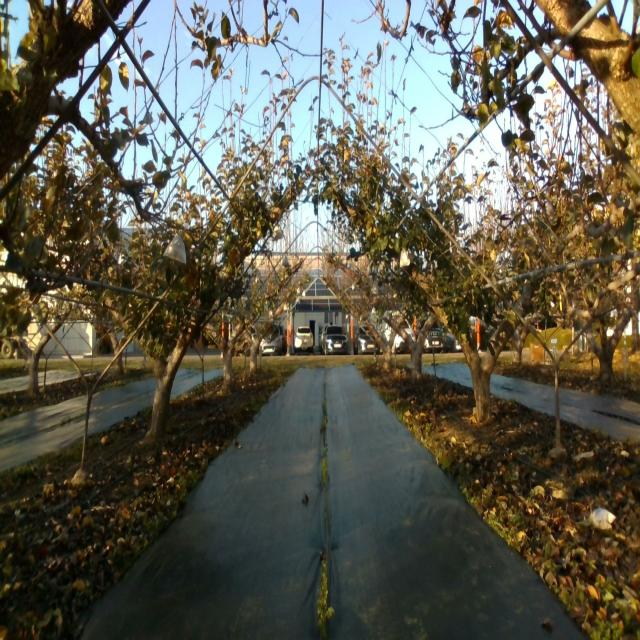pearbags: (163, 234, 187, 264), (399, 248, 411, 268)
